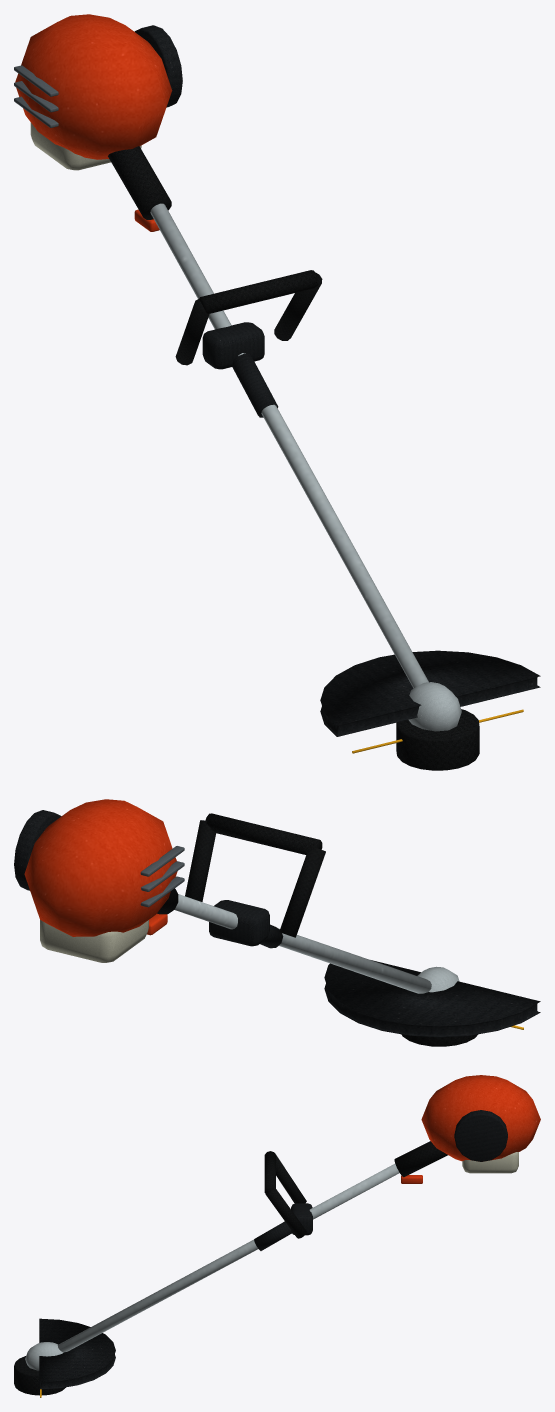
Rendered from Trimmer_Petrol.fbx.
3 renders of one model, top to bottom at view 1: azimuth 30°, elevation 25°; view 2: azimuth 150°, elevation 25°; view 3: azimuth 270°, elevation 25°, orthographic. The views are drawn at different scales.
Parts seen in each view (by area): view 1: Trimmer_Petrol__Body, Trimmer_Petrol__Spool; view 2: Trimmer_Petrol__Body, Trimmer_Petrol__Spool; view 3: Trimmer_Petrol__Body, Trimmer_Petrol__Spool.
Part boxes in pixels (<box>): Trimmer_Petrol__Body: <box>14,14,540,736</box>; Trimmer_Petrol__Spool: <box>352,709,523,770</box>; Trimmer_Petrol__Body: <box>14,799,540,1037</box>; Trimmer_Petrol__Spool: <box>401,1025,523,1046</box>; Trimmer_Petrol__Body: <box>25,1075,540,1389</box>; Trimmer_Petrol__Spool: <box>14,1356,65,1397</box>.
Size of the model in its own units: 0.4791 by 1.09 by 1.68.
1 material, 1 textured.
